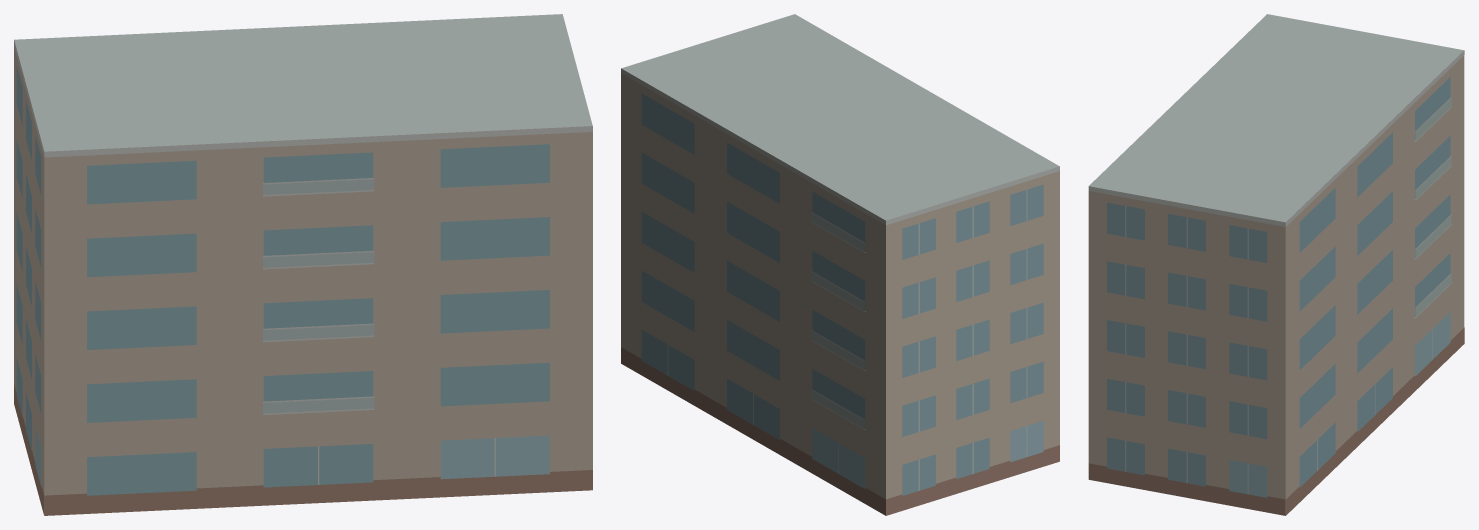
Rendered from survey-upis-32958535.glb.
3 views of the same model, side by side, from view 1: azimuth 30°, elevation 25°; view 2: azimuth 150°, elevation 25°; view 3: azimuth 270°, elevation 25° (orthographic). The views are drawn at different scales.
Visible parts, largest first — view 1: survey-upis-32958535.tmp; view 2: survey-upis-32958535.tmp; view 3: survey-upis-32958535.tmp.
Boxes of the visible parts, x1=… form: survey-upis-32958535.tmp: x1=14, y1=14, x2=592, y2=515; survey-upis-32958535.tmp: x1=621, y1=14, x2=1059, y2=515; survey-upis-32958535.tmp: x1=1088, y1=14, x2=1464, y2=515.
Bounding box in the file's own units: 23.23 × 15.25 × 17.71.
